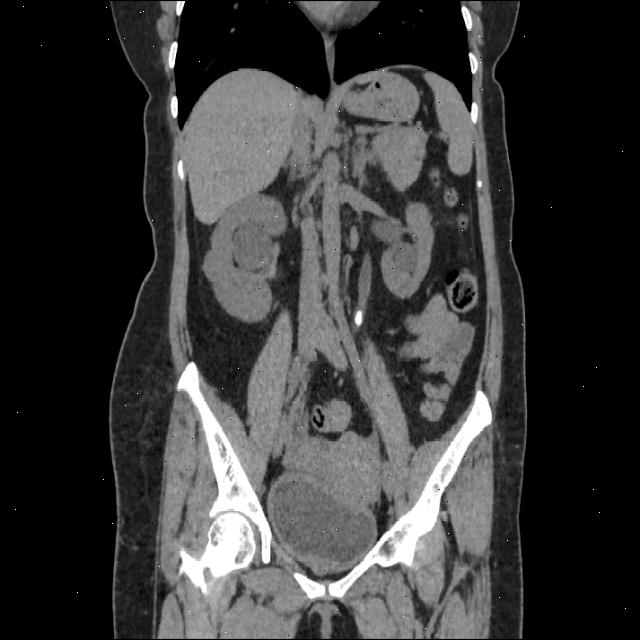kidneystone: (355, 311, 362, 321)
